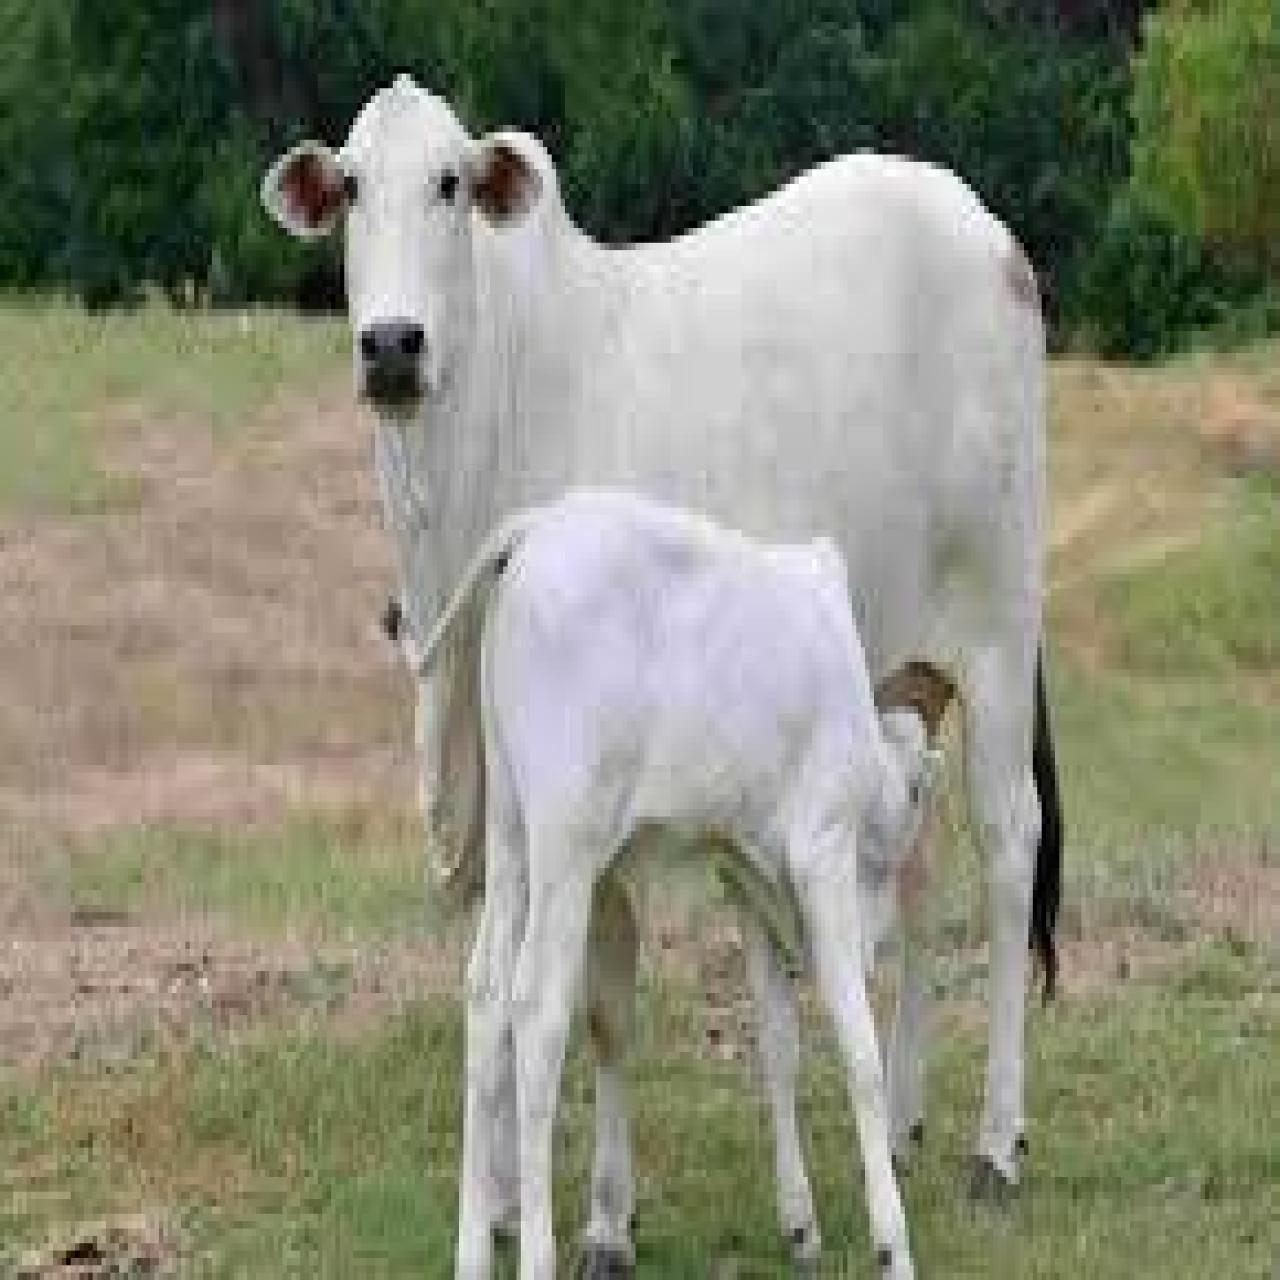cow: (265, 81, 1046, 1280), (443, 493, 955, 1280)
